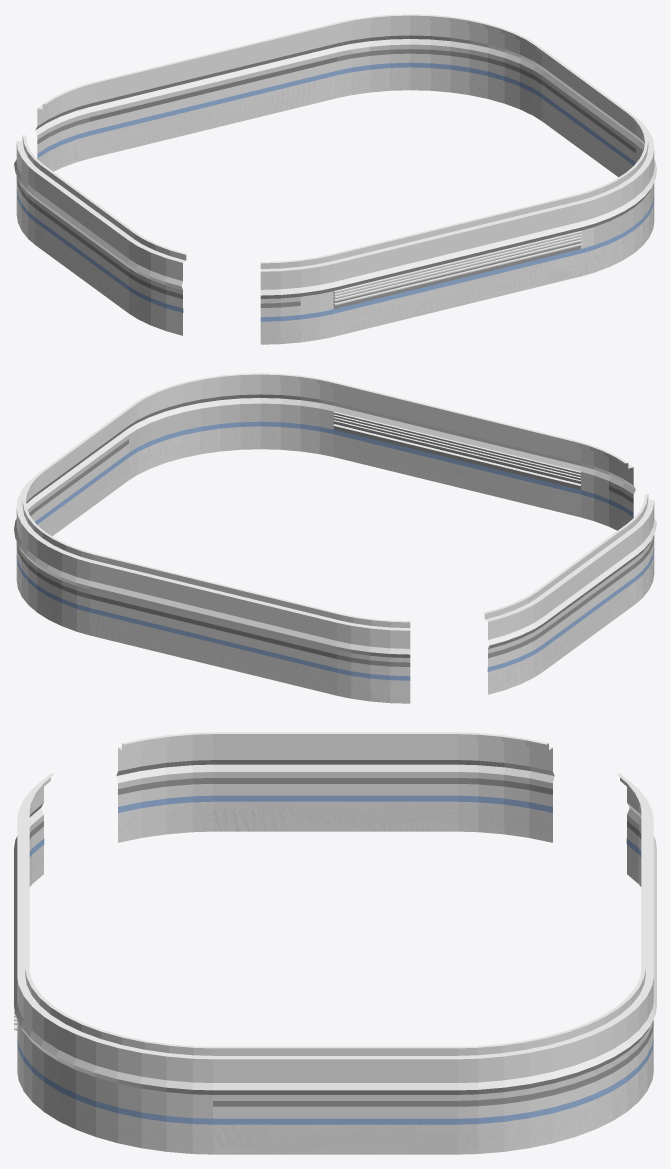
File: stadium_v4.glb
3 views of the same model, one above another, from view 1: azimuth 30°, elevation 25°; view 2: azimuth 150°, elevation 25°; view 3: azimuth 270°, elevation 25° (orthographic). The views are drawn at different scales.
Visible parts, largest first — view 1: SketchUp.949; view 2: SketchUp.949; view 3: SketchUp.949.
Part boxes in pixels (<box>): SketchUp.949: <box>14,14,656,344</box>; SketchUp.949: <box>14,373,656,703</box>; SketchUp.949: <box>14,732,656,1154</box>.
Bounding box in the file's own units: 235 × 34.6 × 196.
6 materials, 1 textured.
